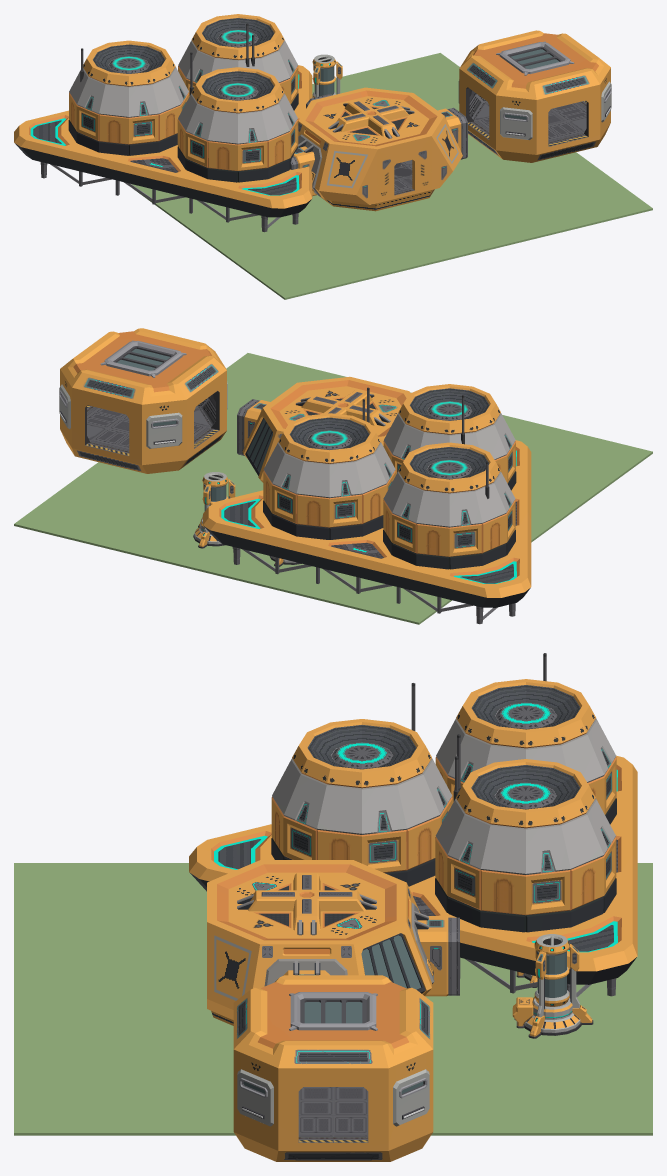
File: synthetic-protein-lab.glb
3 views of the same model, one above another, from view 1: azimuth 30°, elevation 25°; view 2: azimuth 150°, elevation 25°; view 3: azimuth 270°, elevation 25° (orthographic). The views are drawn at different scales.
Parts seen in each view (by area): view 1: Silo, Ground, Lab_Main, Hub, Containment_2; view 2: Silo, Ground, Hub, Lab_Main, Containment_2; view 3: Ground, Silo, Hub, Lab_Main, Containment_2.
Part boxes in pixels (bbox=[...]): Silo: bbox=[14, 14, 312, 232]; Ground: bbox=[131, 53, 652, 299]; Lab_Main: bbox=[290, 87, 467, 211]; Hub: bbox=[458, 30, 611, 162]; Containment_2: bbox=[312, 54, 342, 97]; Silo: bbox=[203, 384, 531, 624]; Ground: bbox=[14, 353, 652, 624]; Hub: bbox=[59, 328, 227, 473]; Lab_Main: bbox=[237, 376, 410, 482]; Containment_2: bbox=[193, 472, 235, 548]; Ground: bbox=[14, 863, 652, 1135]; Silo: bbox=[189, 653, 637, 998]; Hub: bbox=[233, 975, 433, 1161]; Lab_Main: bbox=[207, 860, 459, 1025]; Containment_2: bbox=[512, 934, 593, 1038].
Bounding box in the file's own units: 42.71 × 11.74 × 32.
Materials: 2 (1 with a texture image).
